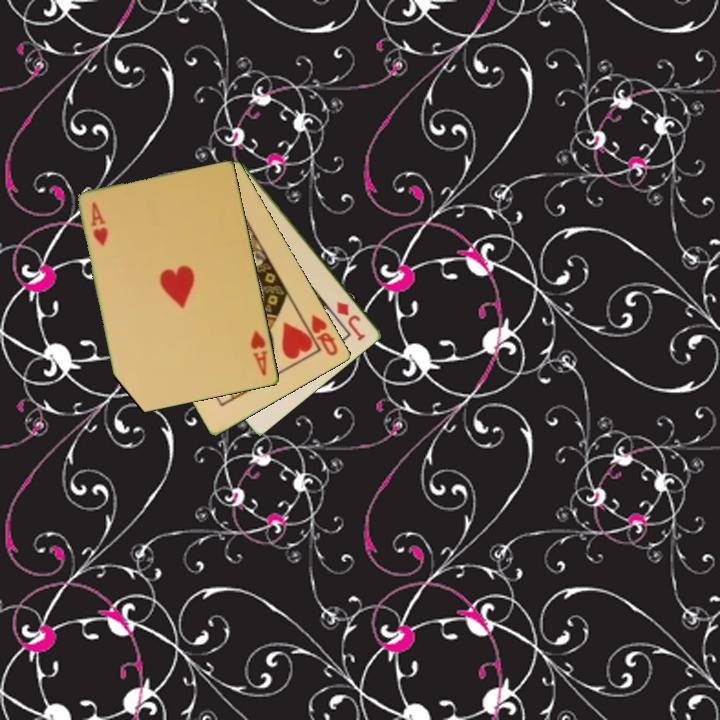Ah: (247, 327, 271, 379), (88, 198, 111, 249)
Jd: (333, 298, 368, 344)
Qh: (308, 311, 341, 359)
